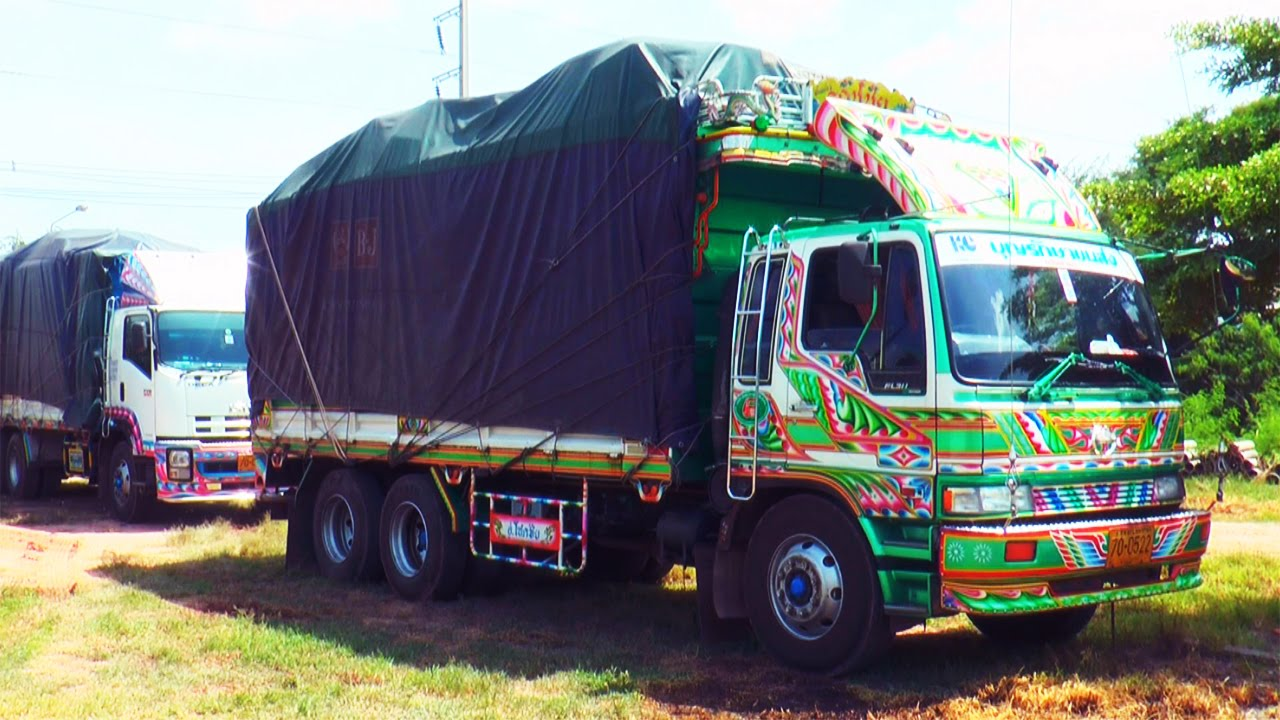truck: (247, 38, 1206, 676)
